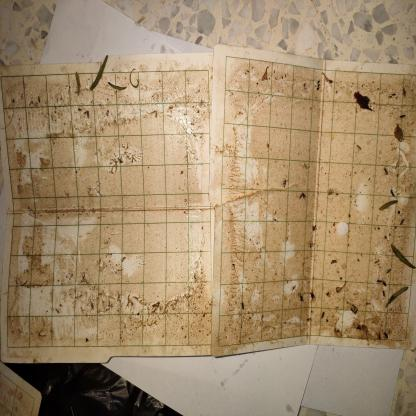prays_oleae: (295, 291, 306, 309), (35, 92, 43, 112), (238, 301, 248, 316), (373, 271, 382, 287), (297, 188, 307, 202), (308, 288, 318, 302), (281, 176, 289, 193), (305, 238, 316, 249), (382, 164, 390, 179), (84, 108, 92, 122), (385, 263, 392, 279), (309, 223, 319, 234), (389, 186, 396, 200), (402, 85, 408, 101), (320, 310, 328, 322), (324, 286, 330, 302), (398, 216, 406, 226), (380, 288, 386, 301), (391, 87, 396, 102), (230, 263, 237, 272), (382, 276, 386, 288), (388, 90, 392, 100), (78, 107, 82, 114)
